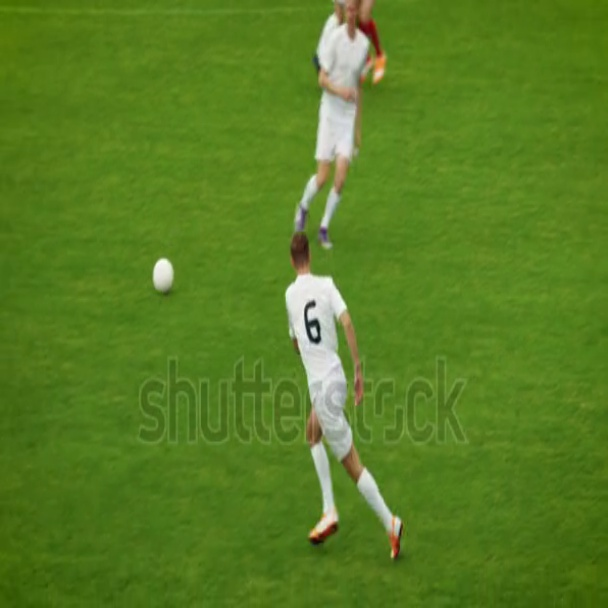ball: (155, 257, 172, 286)
